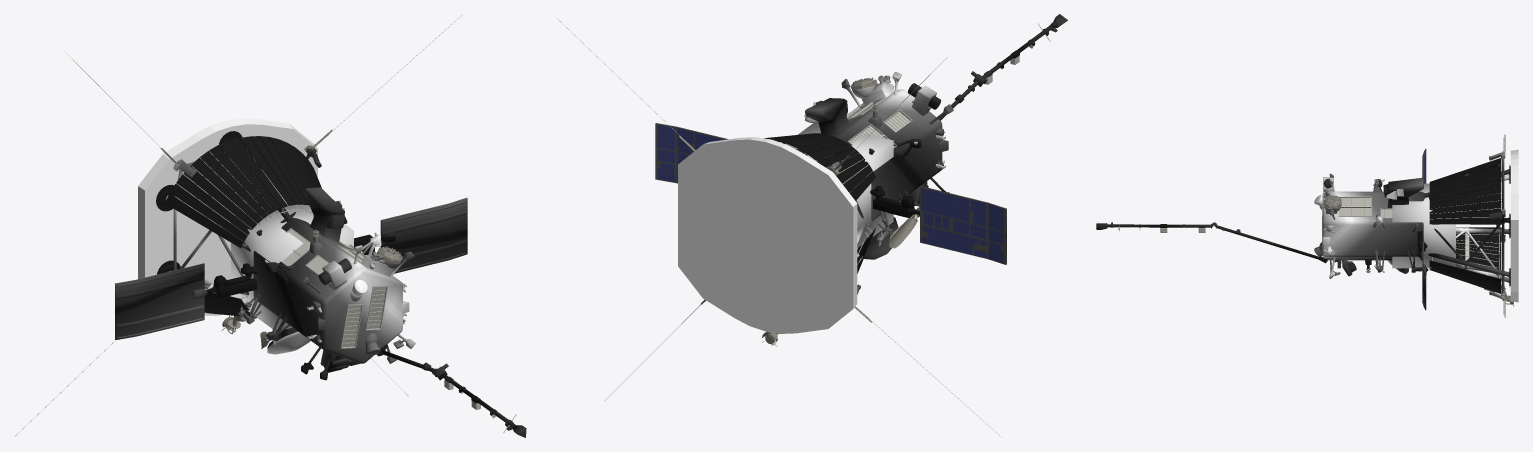
File: parker.glb
3 renders of one model, left to right at view 1: azimuth 30°, elevation 25°; view 2: azimuth 150°, elevation 25°; view 3: azimuth 270°, elevation 25°, orthographic. The views are drawn at different scales.
Visible parts, largest first — view 1: BUS, CoolingSystem, Instruments, _root, magnetometers, solarArray_arms, HGA; view 2: Instruments, BUS, CoolingSystem, _root, magnetometers, solarArray_arms; view 3: BUS, CoolingSystem, _root, Instruments, magnetometers.
Boxes of the visible parts, x1,y1,x2,y2 form: BUS: (115, 143, 526, 437); CoolingSystem: (156, 131, 321, 317); Instruments: (115, 118, 466, 348); _root: (231, 203, 353, 331); magnetometers: (15, 14, 516, 436); solarArray_arms: (206, 234, 381, 297); HGA: (267, 331, 310, 354); Instruments: (655, 77, 1006, 346); BUS: (656, 14, 1067, 294); CoolingSystem: (764, 133, 875, 273); _root: (785, 121, 893, 247); magnetometers: (556, 17, 1050, 437); solarArray_arms: (870, 186, 919, 217); BUS: (1096, 148, 1509, 310); CoolingSystem: (1429, 158, 1510, 293); _root: (1392, 183, 1455, 268); Instruments: (1323, 134, 1518, 317); magnetometers: (1118, 165, 1511, 304).
Size of the model in its own units: 5.75 by 5.26 by 6.61.
Materials: 6 (2 with a texture image).
